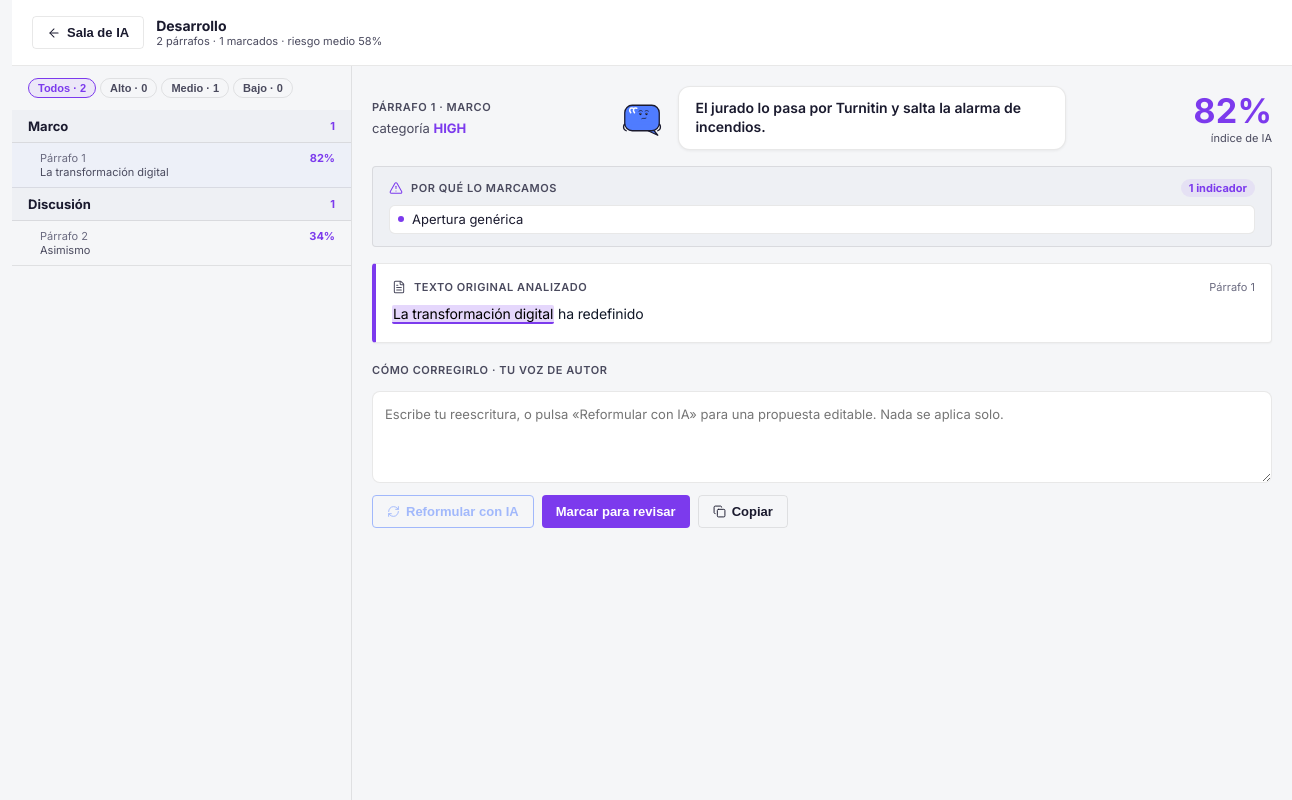
Test: AiSectionDetail (IA-L1) › filtra por banda
Click the button "Medio · 1" at (195, 88), box [161, 78, 229, 98]
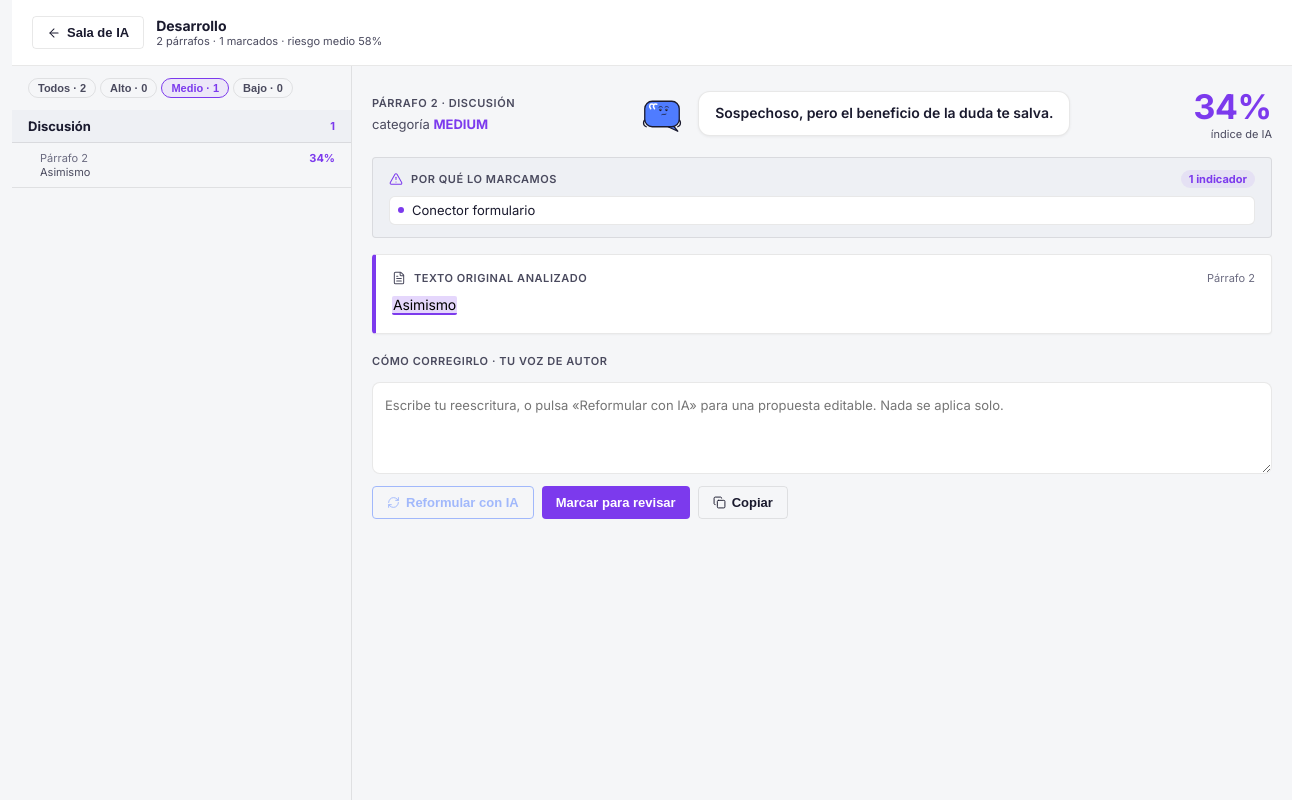
Expected: the 1st text "Párrafo 2" is shown, [40, 151, 88, 165]
Expected: the button "Párrafo 1" is gone
